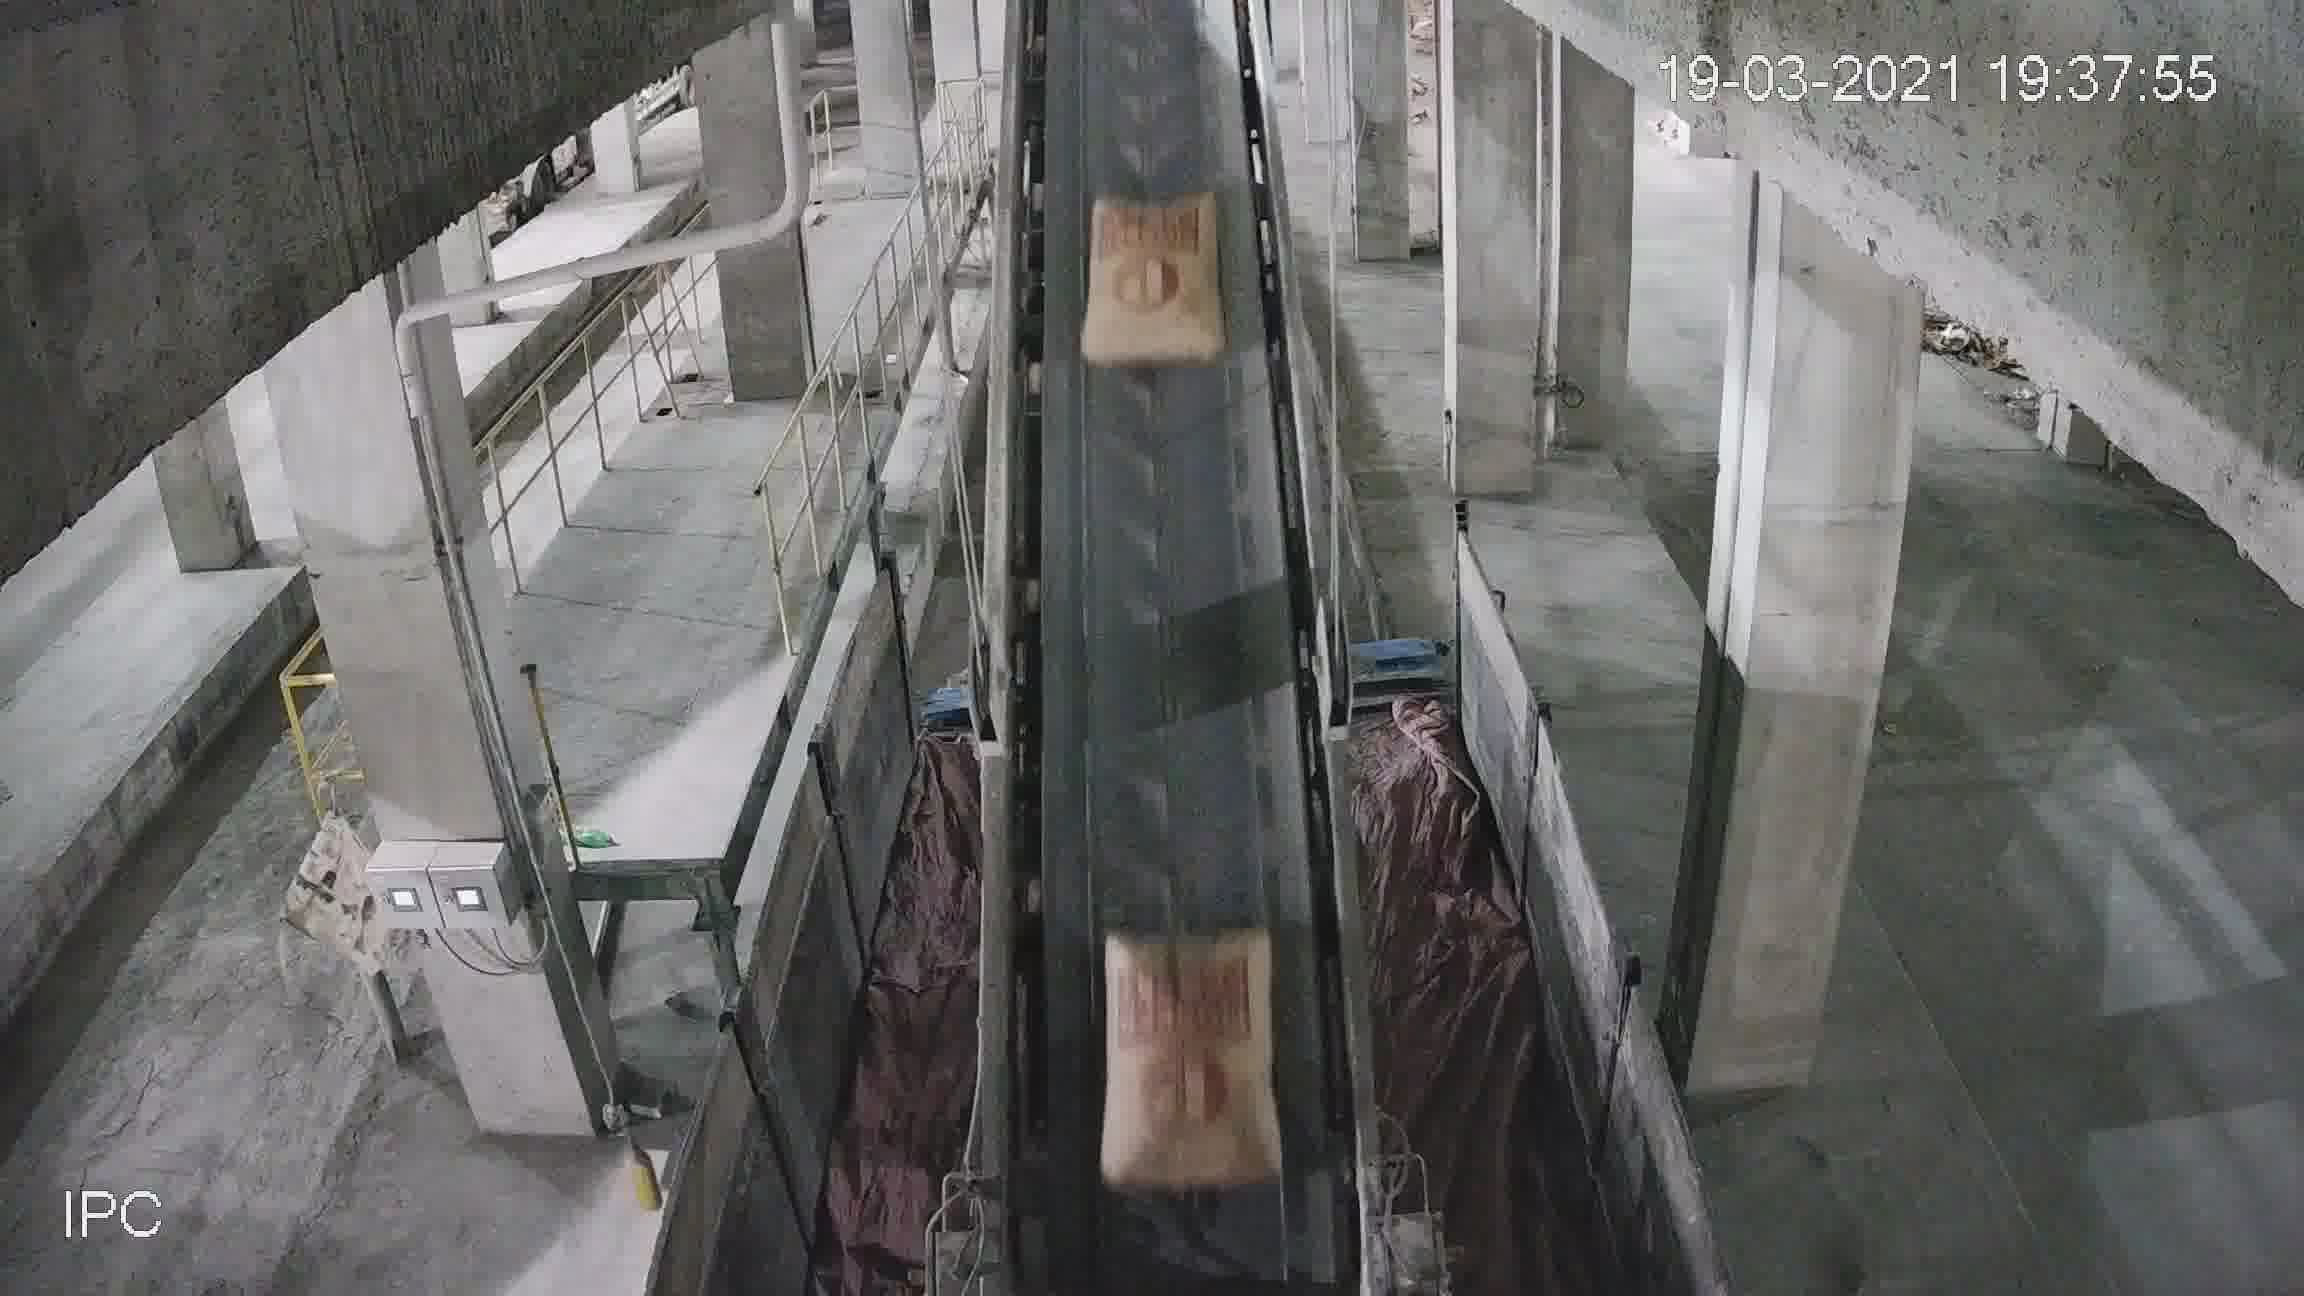bag: (1098, 927, 1279, 1195), (1082, 198, 1223, 366)
belt: (992, 89, 1340, 1147)
